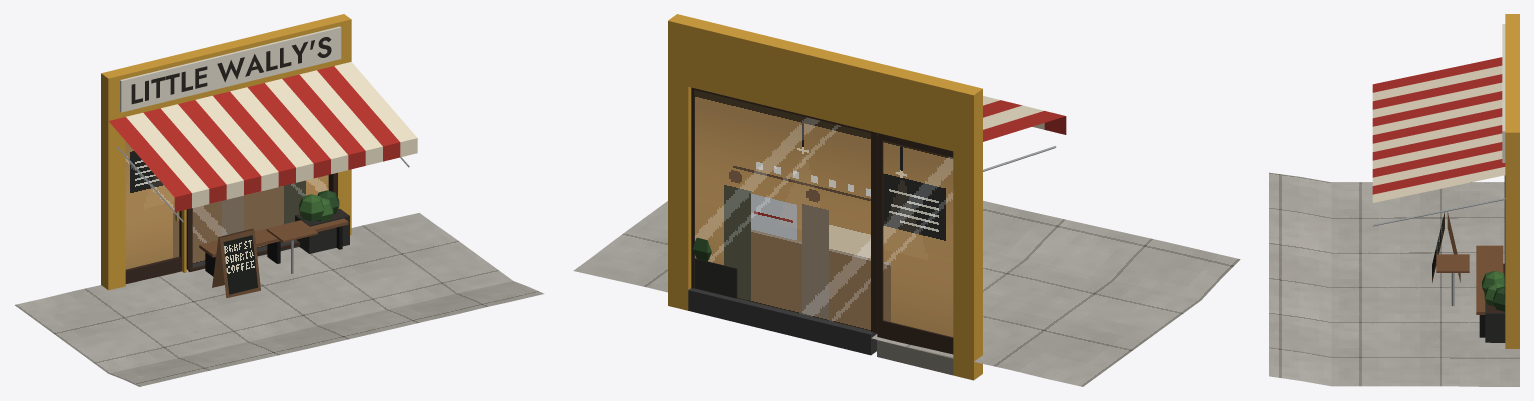
File: little_wallys.glb
3 renders of one model, left to right at view 1: azimuth 30°, elevation 25°; view 2: azimuth 150°, elevation 25°; view 3: azimuth 270°, elevation 25°, orthographic. The views are drawn at different scales.
Visible parts, largest first — view 1: LittleWallys; view 2: LittleWallys; view 3: LittleWallys.
Part boxes in pixels (box(x1,y1,x2,y2)): LittleWallys: box(15, 14, 544, 386); LittleWallys: box(573, 14, 1240, 386); LittleWallys: box(1269, 14, 1519, 386).
Size of what is drawn, in the model's own units: 7 by 3.74 by 3.75.
20 materials, 3 textured.
